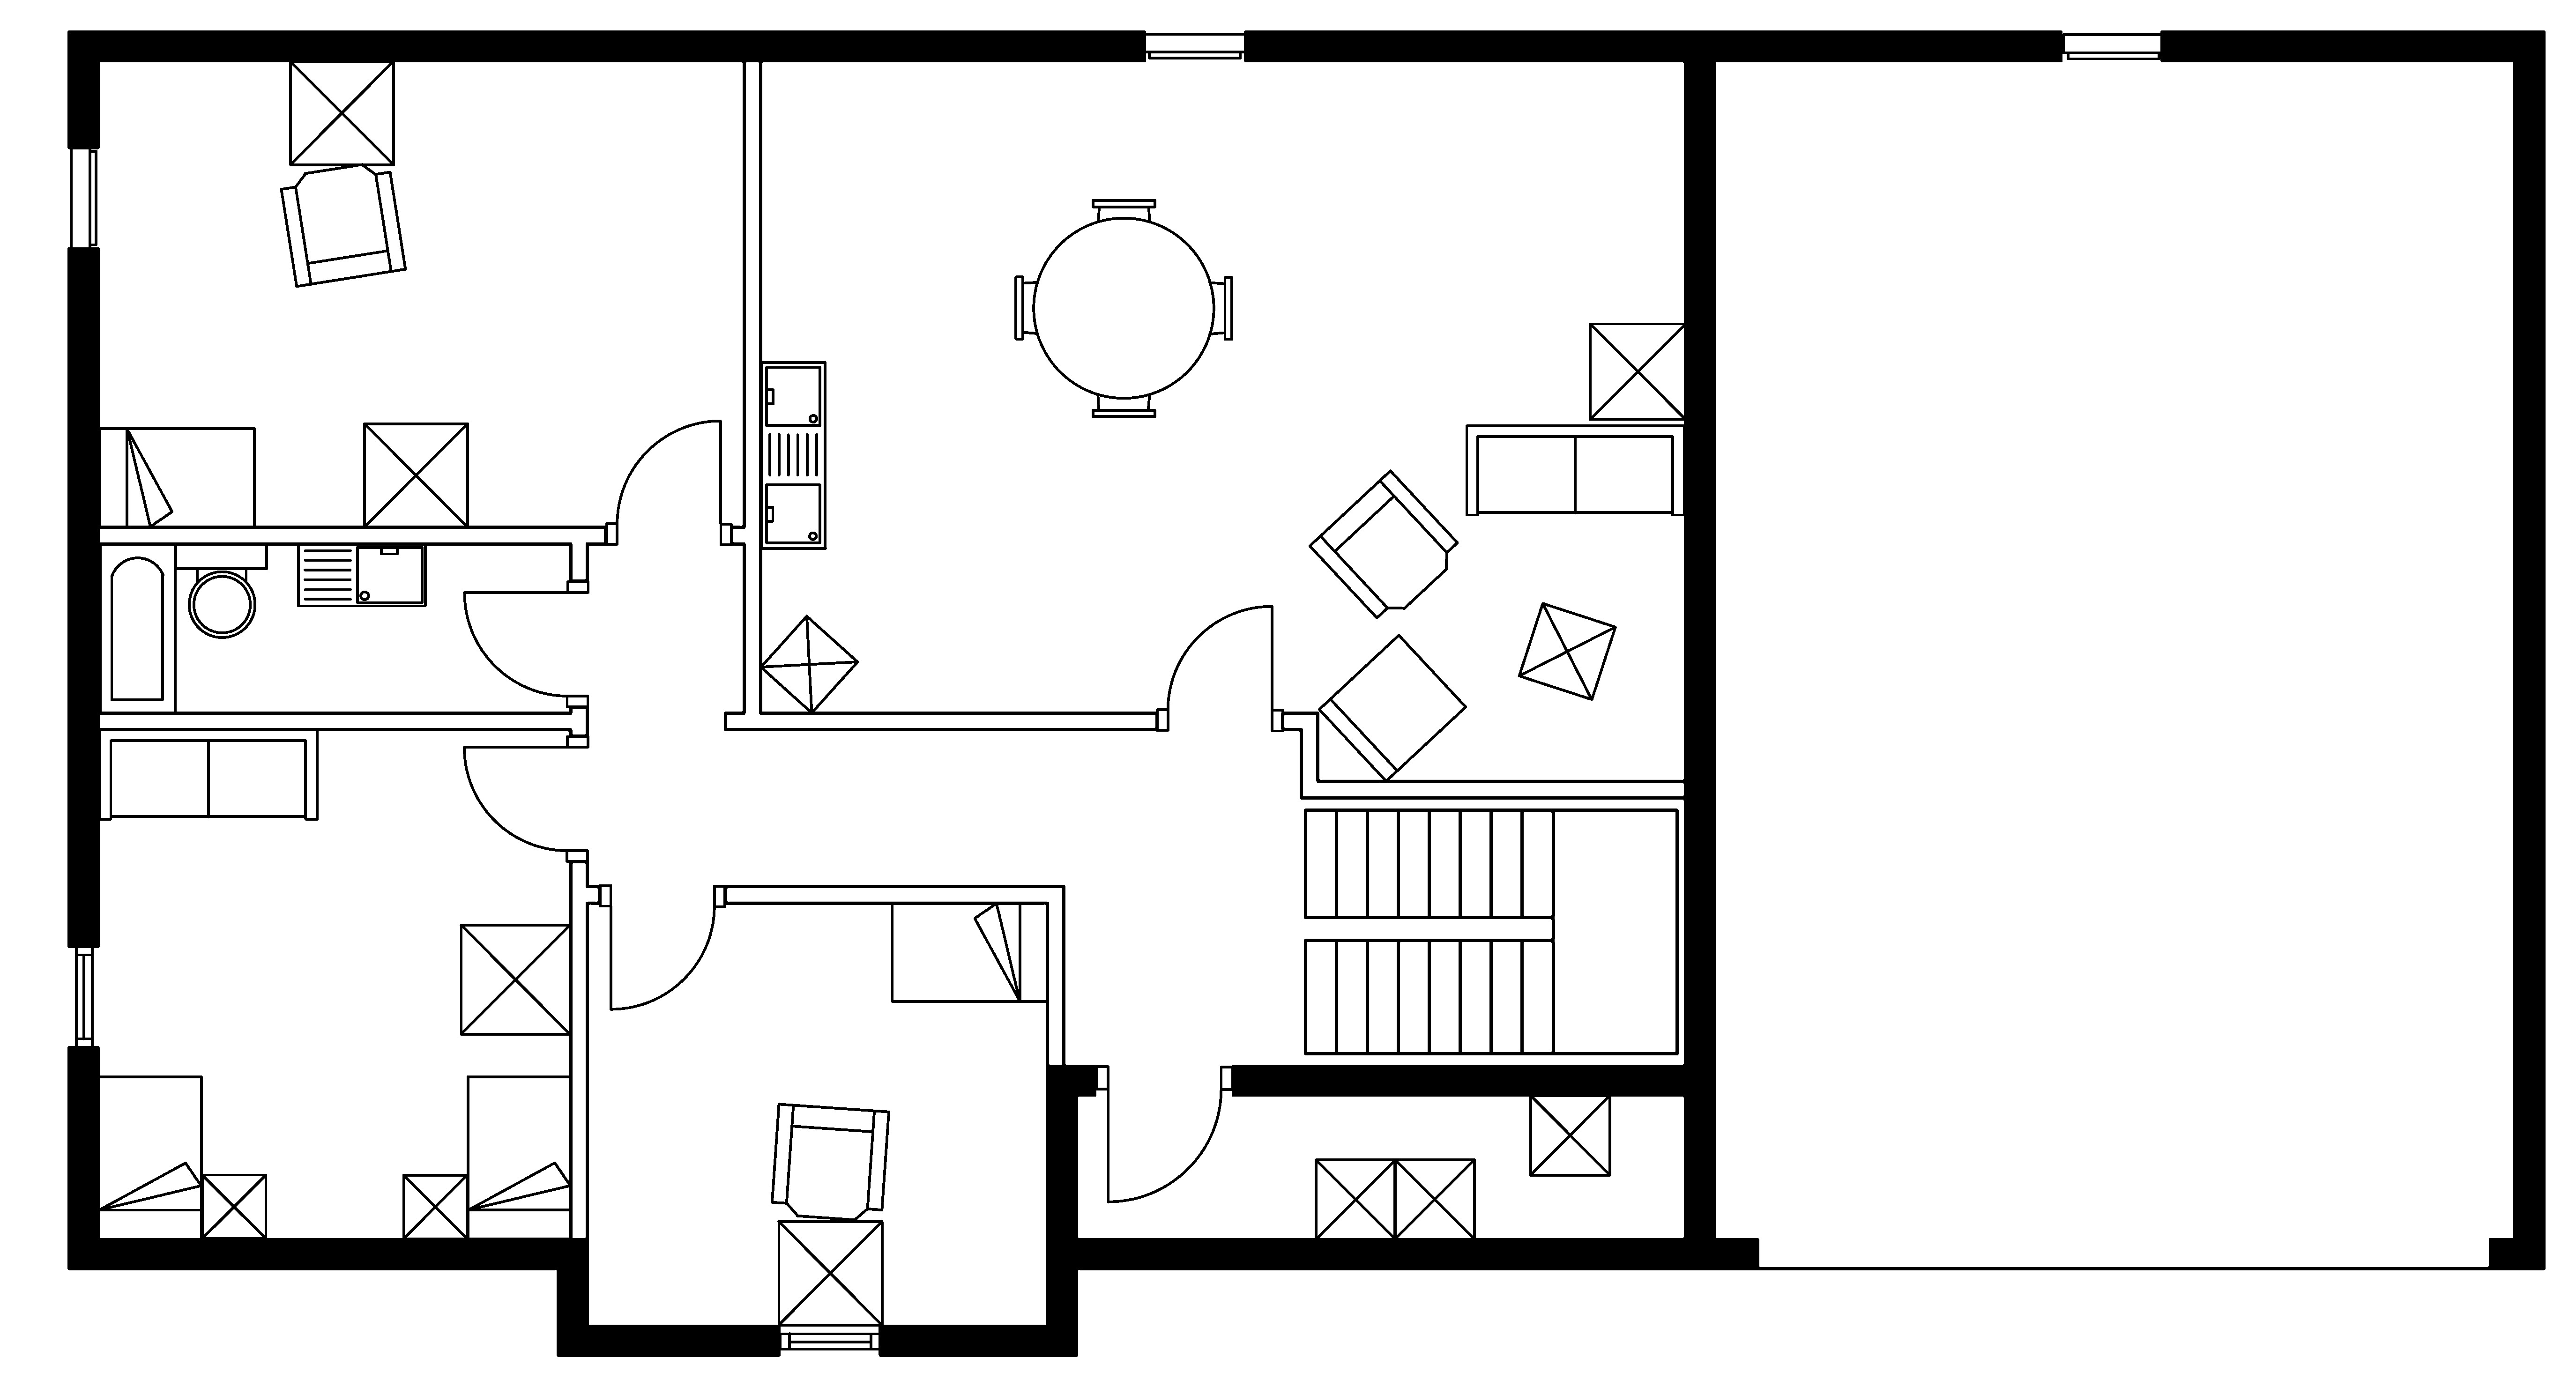armchair: (1307, 468, 1459, 620), (278, 162, 407, 289), (769, 1102, 890, 1221)
bed: (96, 1074, 203, 1240), (465, 1074, 572, 1240), (97, 425, 256, 530), (890, 900, 1049, 1003)
coffee_table: (458, 922, 572, 1035), (362, 422, 470, 530), (287, 58, 395, 166), (776, 1220, 883, 1327), (758, 613, 859, 714), (1517, 601, 1618, 702), (1587, 321, 1688, 422), (1527, 1093, 1613, 1177), (1314, 1156, 1397, 1240), (1392, 1156, 1476, 1240), (200, 1172, 268, 1240), (401, 1172, 470, 1240)
large_sink: (173, 541, 268, 639)
large_sofa: (1464, 424, 1686, 516), (97, 728, 319, 820)
round_table: (1013, 198, 1233, 418)
sink: (296, 541, 427, 608)
small_sofa: (1317, 632, 1467, 782)
tub: (97, 541, 178, 714)
twin_sink: (758, 359, 827, 550)
